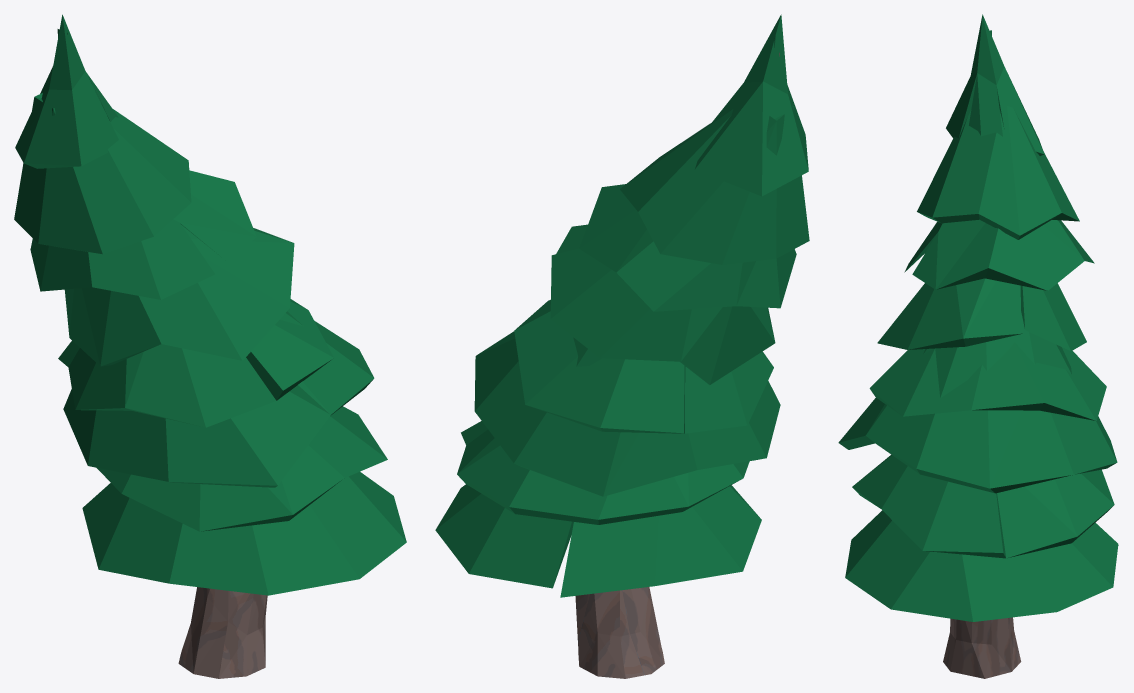
The model's file is pine_tree.glb.
3 views of the same model, side by side, from view 1: azimuth 30°, elevation 25°; view 2: azimuth 150°, elevation 25°; view 3: azimuth 270°, elevation 25° (orthographic). The views are drawn at different scales.
Parts seen in each view (by area): view 1: Circle.001, Circle; view 2: Circle.001, Circle; view 3: Circle.001, Circle.
Part boxes in pixels (left/top/right/bottom): Circle.001: left=14, top=14, right=406, bottom=595; Circle: left=178, top=587, right=267, bottom=678; Circle.001: left=435, top=14, right=809, bottom=597; Circle: left=575, top=52, right=779, bottom=678; Circle.001: left=838, top=14, right=1118, bottom=621; Circle: left=943, top=617, right=1021, bottom=678.
Bounding box in the file's own units: 3.82 × 6.97 × 3.06.
Materials: 2 (1 with a texture image).
